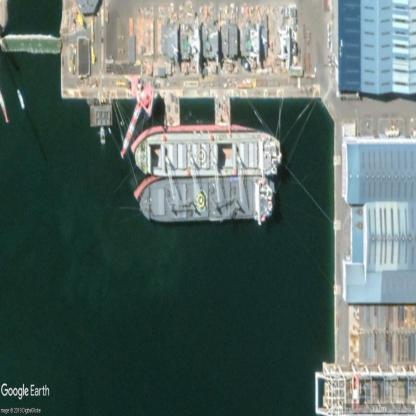ship: (133, 130, 282, 177), (138, 177, 274, 224)
